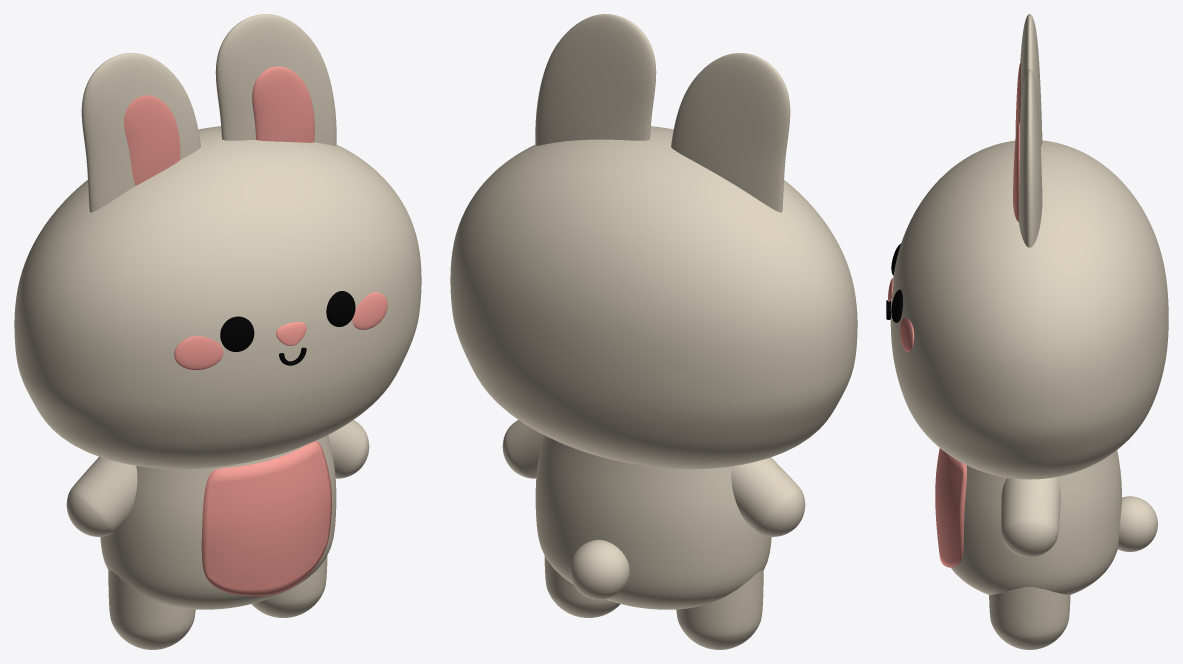
Rendered from cute_rabbit.glb.
3 views of the same model, side by side, from view 1: azimuth 30°, elevation 25°; view 2: azimuth 150°, elevation 25°; view 3: azimuth 270°, elevation 25° (orthographic). The views are drawn at different scales.
Parts seen in each view (by area): view 1: ras, kerch 2, bdan, wedhnen 1.001, wedhnen 1, iden _Material.007_0, sa9in, wedhnen 1.002, wedhnen 1.003, 5doud.001, 3enin; view 2: ras, bdan, wedhnen 1.001, wedhnen 1, iden _Material.007_0, sa9in, ba3bous; view 3: ras, bdan, iden _Material.007_0, sa9in, wedhnen 1, kerch 2, ba3bous, wedhnen 1.001, wedhnen 1.002, 3enin.
Boxes of the visible parts, box(x1,y1,x2,y2) form: ras: box(14, 126, 421, 469); kerch 2: box(201, 441, 331, 596); bdan: box(100, 435, 336, 609); wedhnen 1.001: box(81, 53, 200, 212); wedhnen 1: box(215, 14, 336, 145); iden _Material.007_0: box(66, 420, 369, 536); sa9in: box(108, 556, 327, 649); wedhnen 1.002: box(252, 66, 314, 142); wedhnen 1.003: box(124, 95, 180, 185); 5doud.001: box(174, 292, 387, 370); 3enin: box(220, 291, 355, 351); ras: box(450, 126, 857, 469); bdan: box(535, 435, 771, 609); wedhnen 1.001: box(671, 53, 790, 212); wedhnen 1: box(535, 14, 656, 145); iden _Material.007_0: box(502, 420, 805, 536); sa9in: box(544, 556, 763, 649); ba3bous: box(570, 539, 629, 599); ras: box(890, 140, 1168, 479); bdan: box(951, 450, 1121, 594); iden _Material.007_0: box(1001, 477, 1060, 557); sa9in: box(989, 587, 1070, 649); wedhnen 1: box(1018, 69, 1042, 247); kerch 2: box(935, 448, 966, 567); ba3bous: box(1118, 496, 1157, 551); wedhnen 1.001: box(1020, 14, 1042, 146); wedhnen 1.002: box(1013, 123, 1019, 221); 3enin: box(891, 243, 902, 322).
Bounding box in the file's own units: 4.6 × 7.03 × 3.21.
